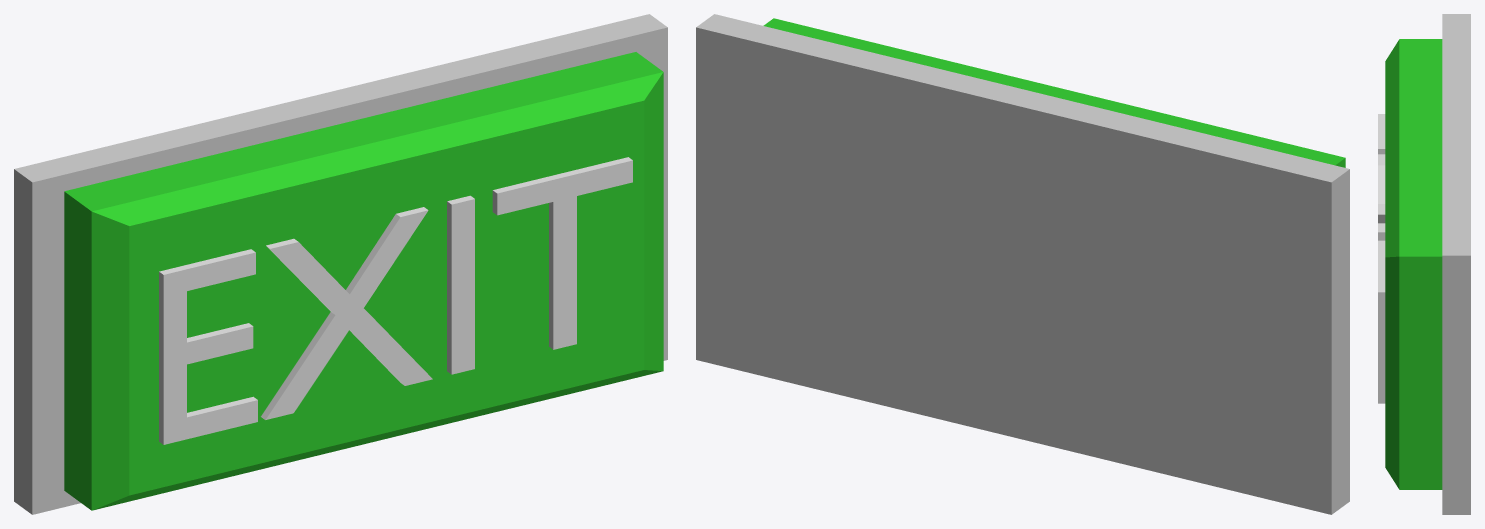
Rendered from Exit Sign.fbx.
The picture shows the model from 3 angles, left to right: view 1: azimuth 30°, elevation 25°; view 2: azimuth 150°, elevation 25°; view 3: azimuth 270°, elevation 25°; orthographic projection. The views are drawn at different scales.
Parts seen in each view (by area): view 1: Exit Sign; view 2: Exit Sign; view 3: Exit Sign.
Part boxes in pixels (<box>): Exit Sign: <box>14,14,667,514</box>; Exit Sign: <box>696,14,1349,514</box>; Exit Sign: <box>1378,14,1470,514</box>.
Size of the model in its own units: 4 by 2 by 0.65.
